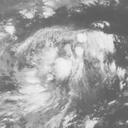cyclone: (24, 29, 84, 89)
